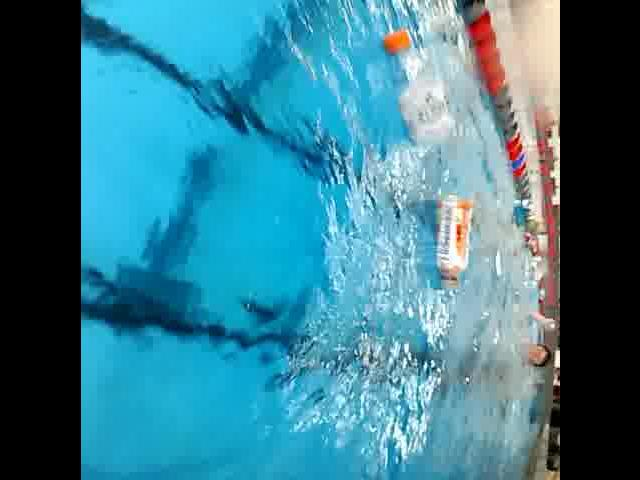Bottle: (380, 23, 456, 153), (431, 192, 476, 296)
